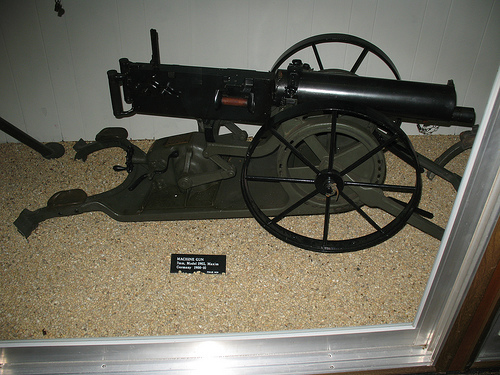rifle: (50, 32, 466, 274)
